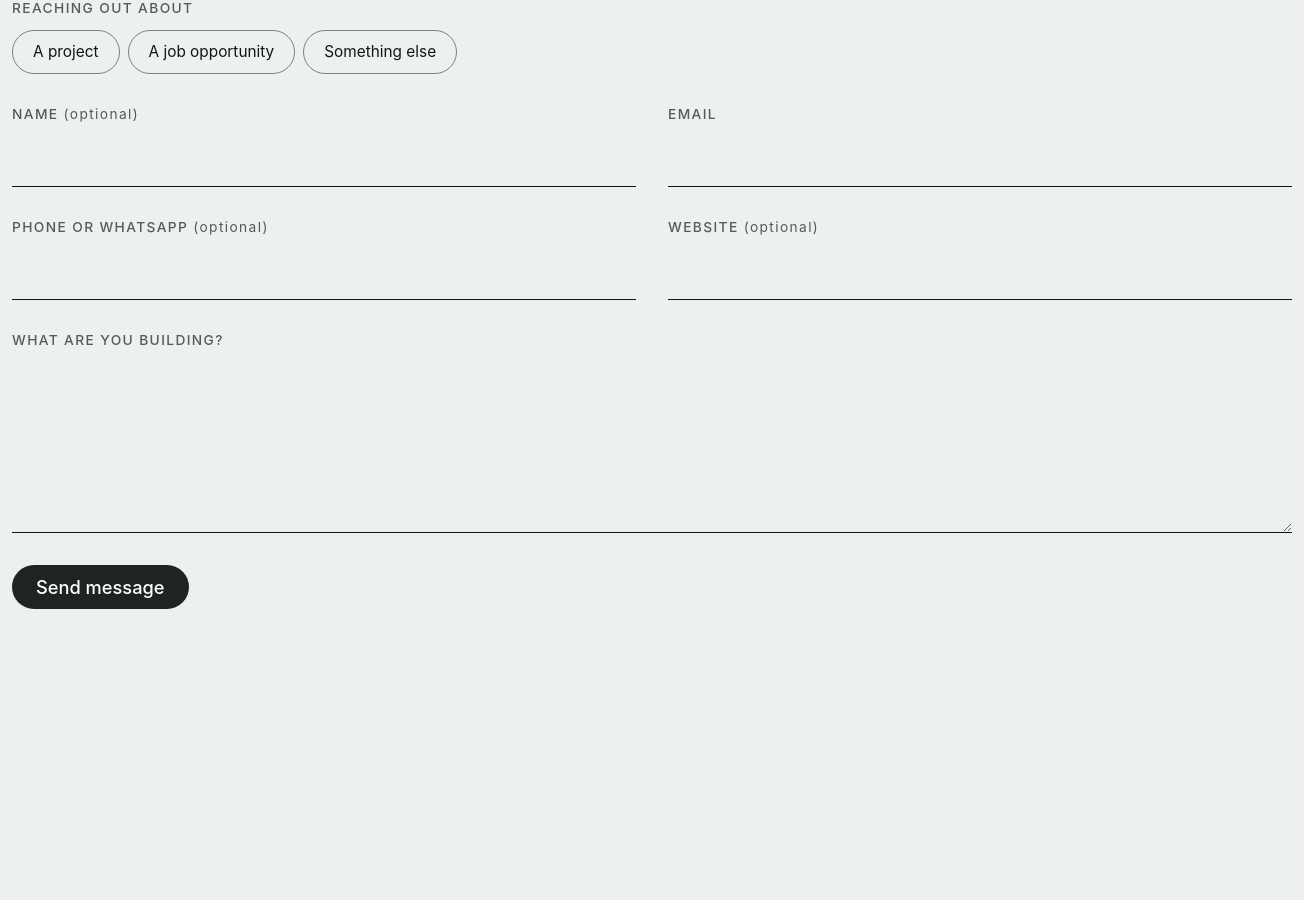
Scenario: says plainly when delivery is not configured and offers the address
Click the radio button labelled "A project" at [66, 52], box top-left (12, 30), bottom-right (120, 74)
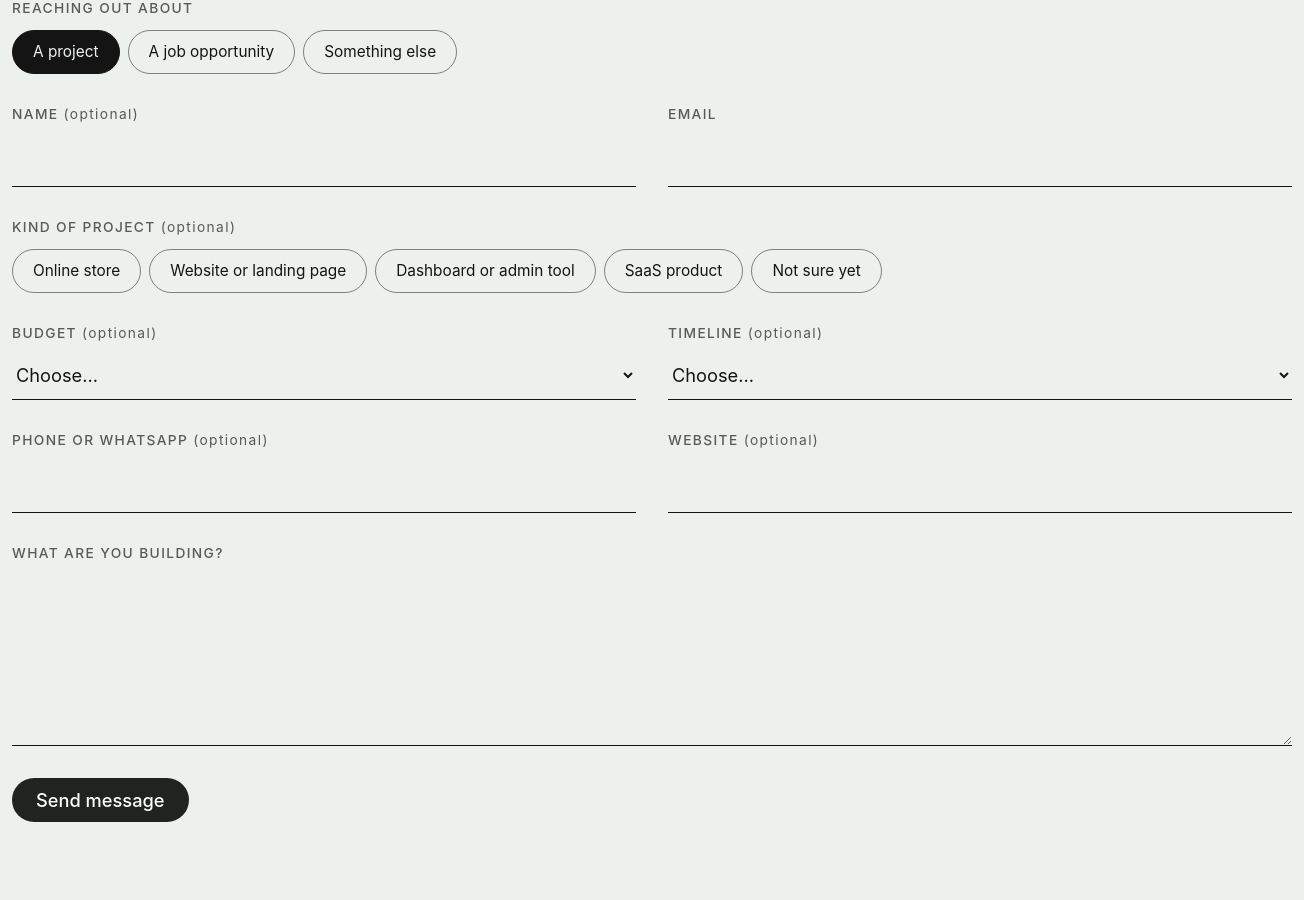
Type "sam@studio.co" into the field labelled "Email" at [980, 159], box top-left (668, 132), bottom-right (1292, 187)
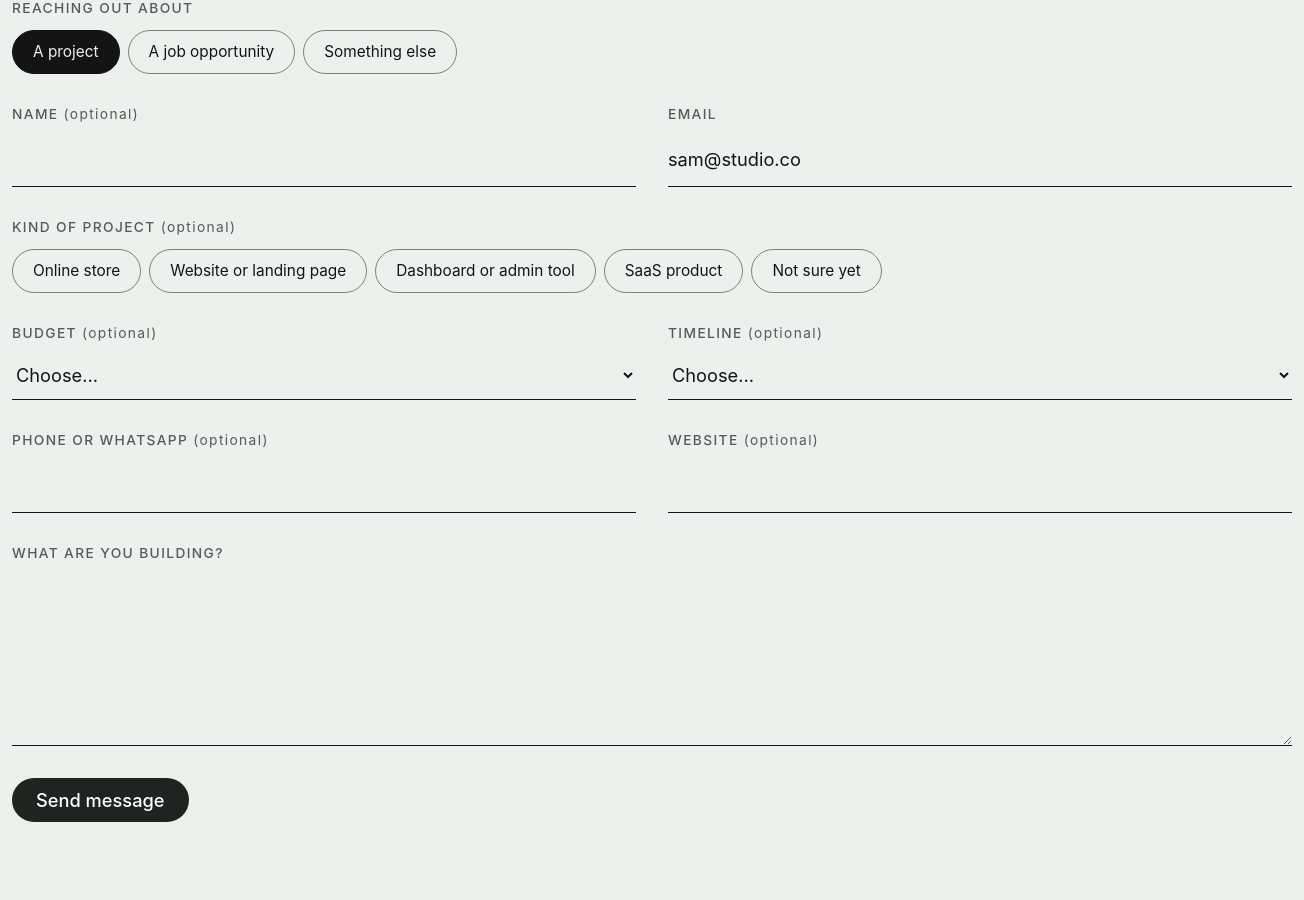
Type "I would like a storefront." into the text box labelled "What are you building?" at [652, 658], box top-left (12, 570), bottom-right (1292, 746)
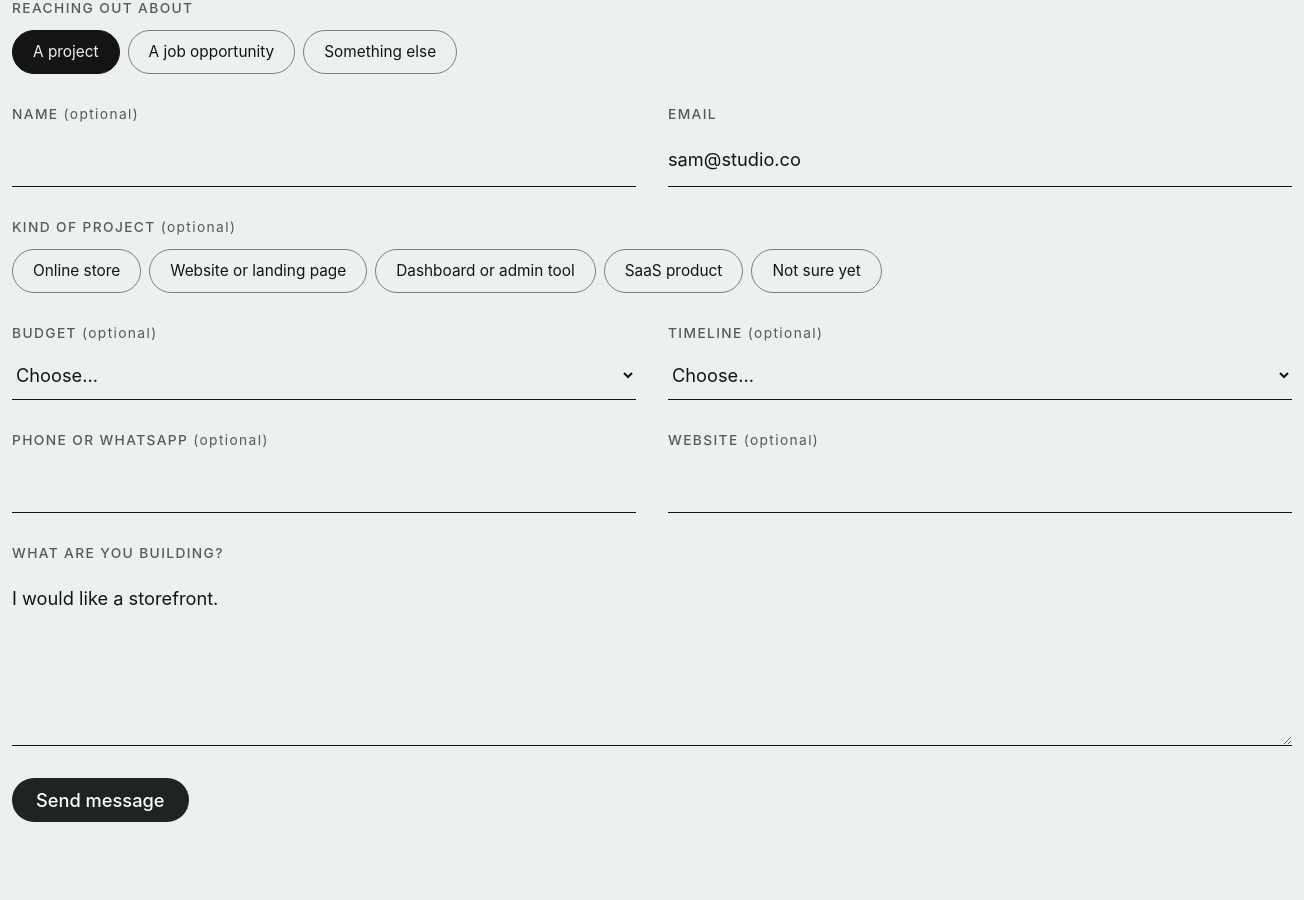
Click the button "Send message" at [100, 800], box top-left (12, 778), bottom-right (188, 822)
(page scrolled)
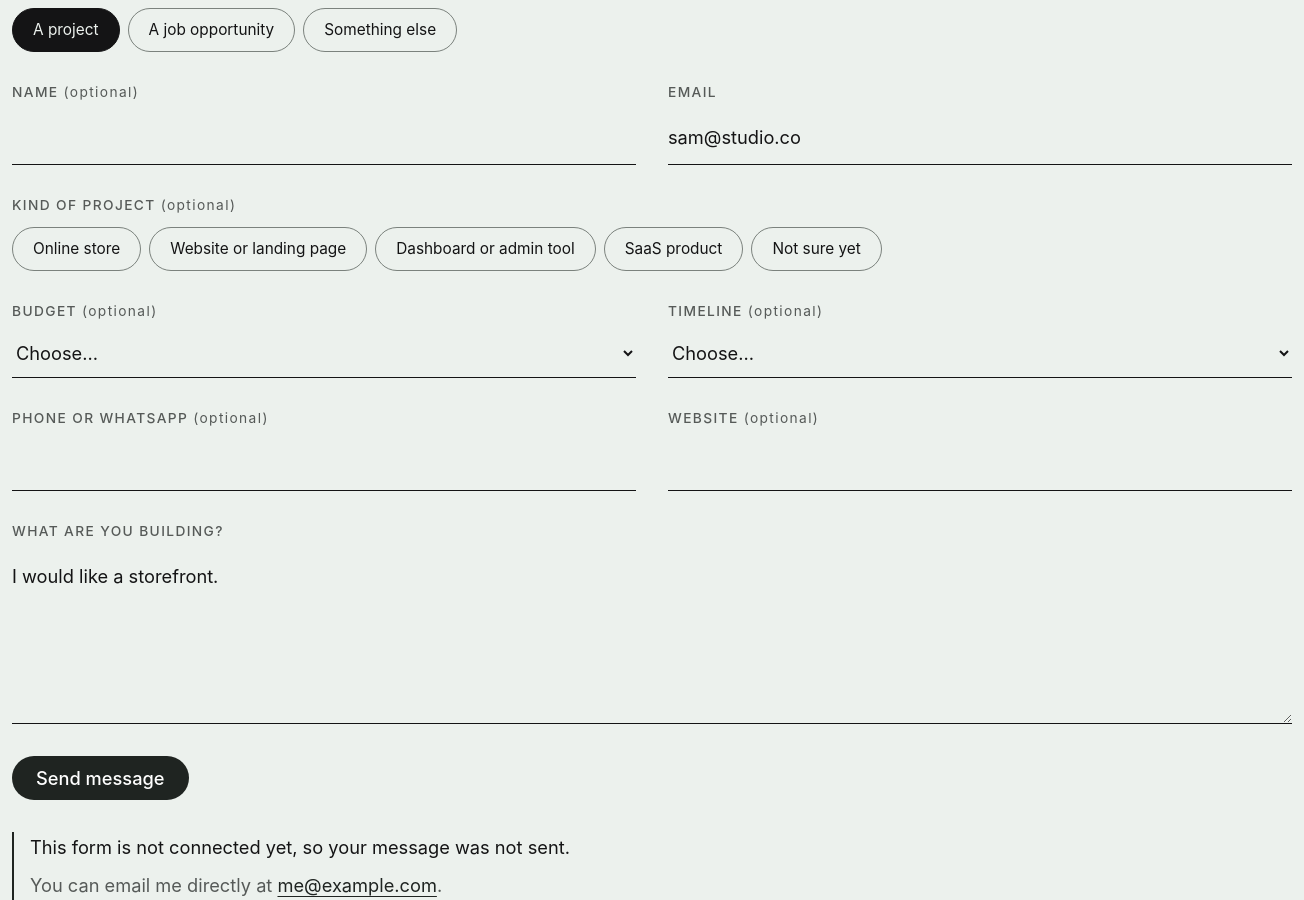
Check: the message shows "not connected yet", box top-left (30, 836), bottom-right (570, 858)
